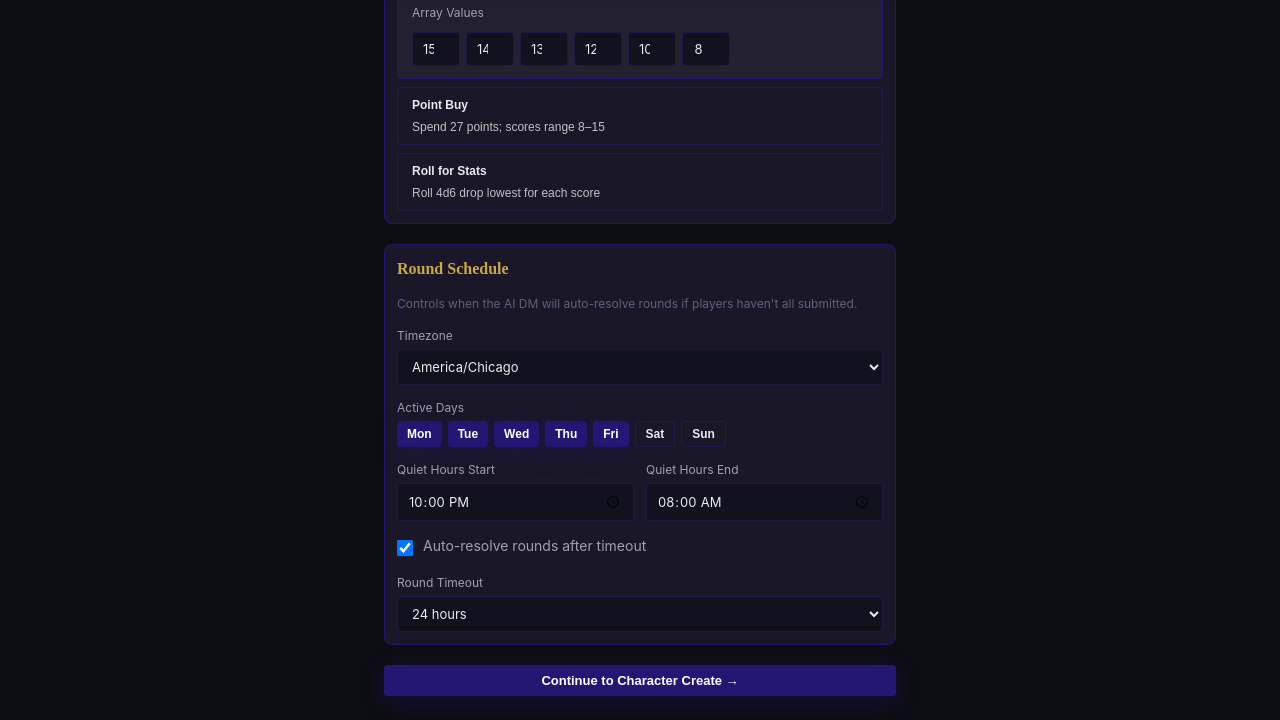
Test case: Continue to Character Create › clicking Continue shows lock-rules confirmation instead of navigating immediately
The image size is (1280, 720).
(page scrolled)
Click the button "Continue to Character Create →": [640, 680] box [384, 665, 896, 696]
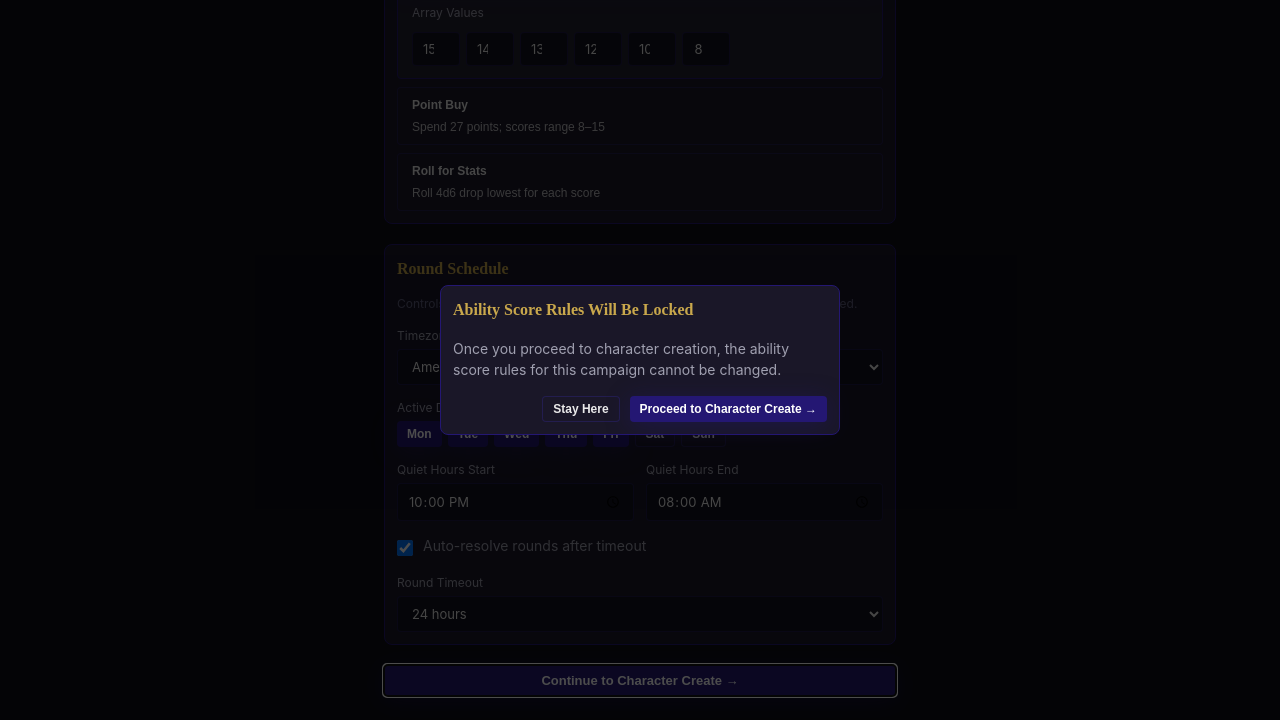
Now the heading "Ability Score Rules Will Be Locked" is shown, box [453, 301, 694, 318]
